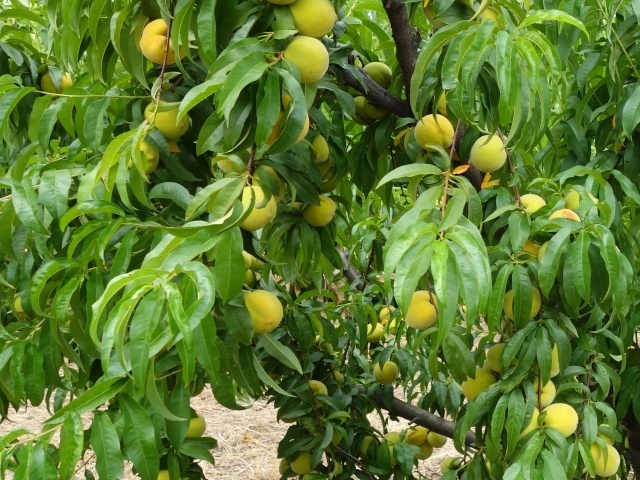peach: (276, 33, 335, 88), (135, 16, 191, 70), (260, 92, 314, 148), (228, 184, 281, 235), (140, 94, 195, 140), (237, 287, 286, 338), (466, 132, 512, 178), (399, 289, 446, 334), (411, 112, 458, 155), (500, 283, 545, 326), (537, 401, 582, 441), (35, 65, 80, 101), (456, 364, 498, 402), (298, 192, 341, 229), (585, 439, 624, 479), (511, 188, 548, 226), (231, 248, 267, 287), (360, 57, 396, 92), (132, 137, 164, 175), (346, 92, 377, 128), (529, 373, 558, 411), (484, 340, 514, 376), (546, 204, 584, 231), (369, 357, 401, 389), (285, 448, 314, 477), (309, 133, 333, 168), (181, 413, 209, 443), (359, 317, 385, 348), (302, 379, 331, 406), (374, 303, 404, 325), (425, 425, 449, 452), (401, 425, 429, 447), (409, 441, 434, 464), (379, 429, 403, 449)
